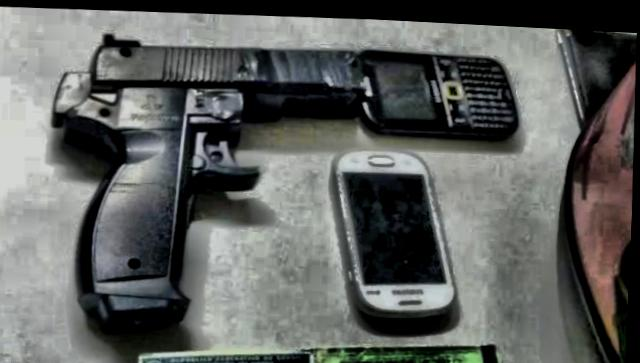pistol: (39, 22, 375, 341)
